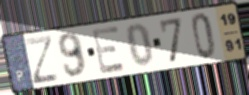0: (125, 22, 156, 70), (190, 11, 219, 61)
7: (158, 15, 185, 66)
9: (56, 30, 90, 80)
E: (90, 24, 129, 77)
Z: (23, 33, 61, 86)
